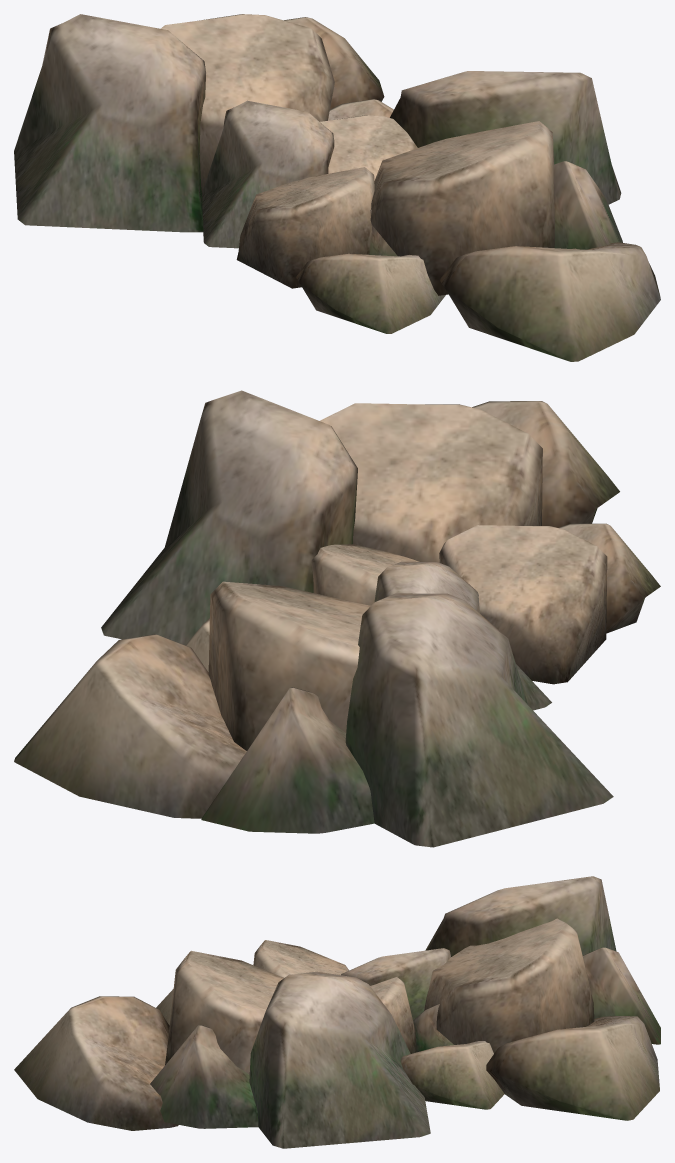
Rendered from Rock.fbx.
3 renders of one model, top to bottom at view 1: azimuth 30°, elevation 25°; view 2: azimuth 150°, elevation 25°; view 3: azimuth 270°, elevation 25°, orthographic. The views are drawn at different scales.
Parts seen in each view (by area): view 1: rock; view 2: rock; view 3: rock.
Part boxes in pixels (box(x1,y1,x2,y2)): rock: box(14, 14, 660, 361); rock: box(14, 390, 660, 847); rock: box(14, 876, 660, 1148).
Size of the model in its own units: 8330 by 2365 by 11274.
